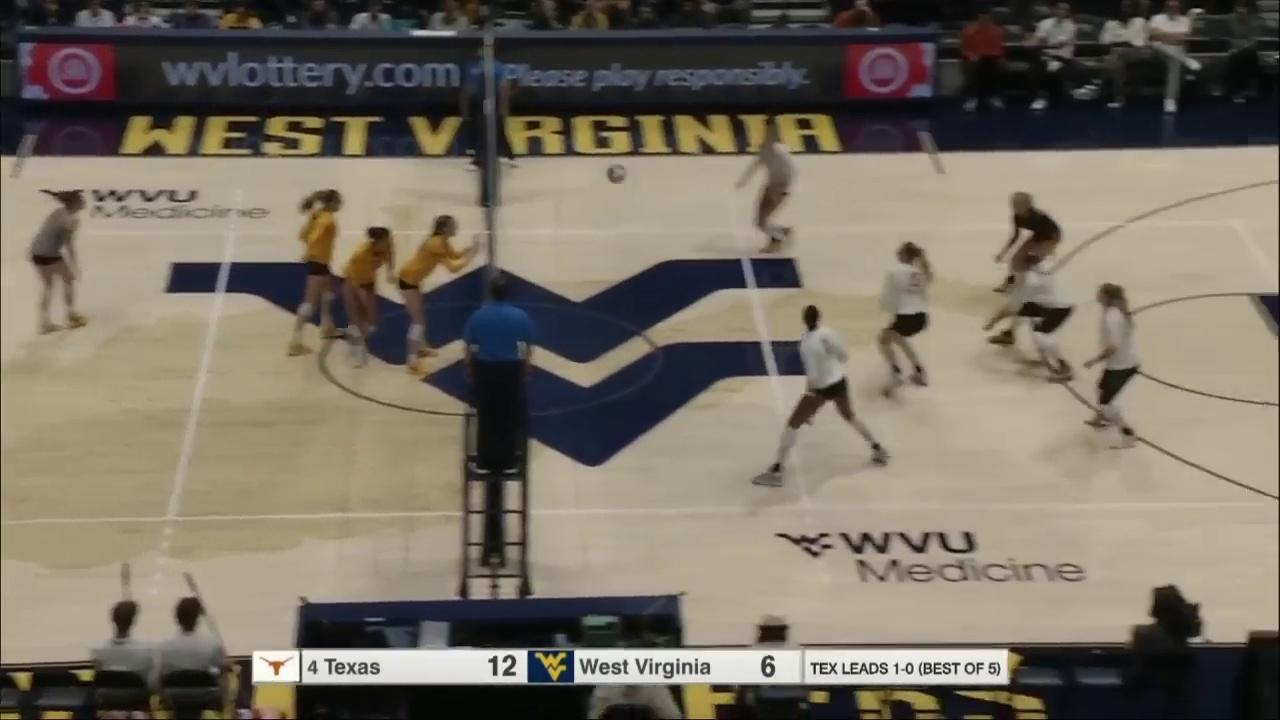player: (757, 307, 893, 483), (397, 213, 479, 377), (985, 253, 1076, 383), (285, 189, 345, 357), (868, 243, 936, 390), (1088, 285, 1144, 448), (30, 192, 91, 332), (741, 124, 797, 254), (348, 226, 397, 368), (997, 191, 1063, 291)
refree: (466, 275, 533, 468), (463, 45, 516, 171)
